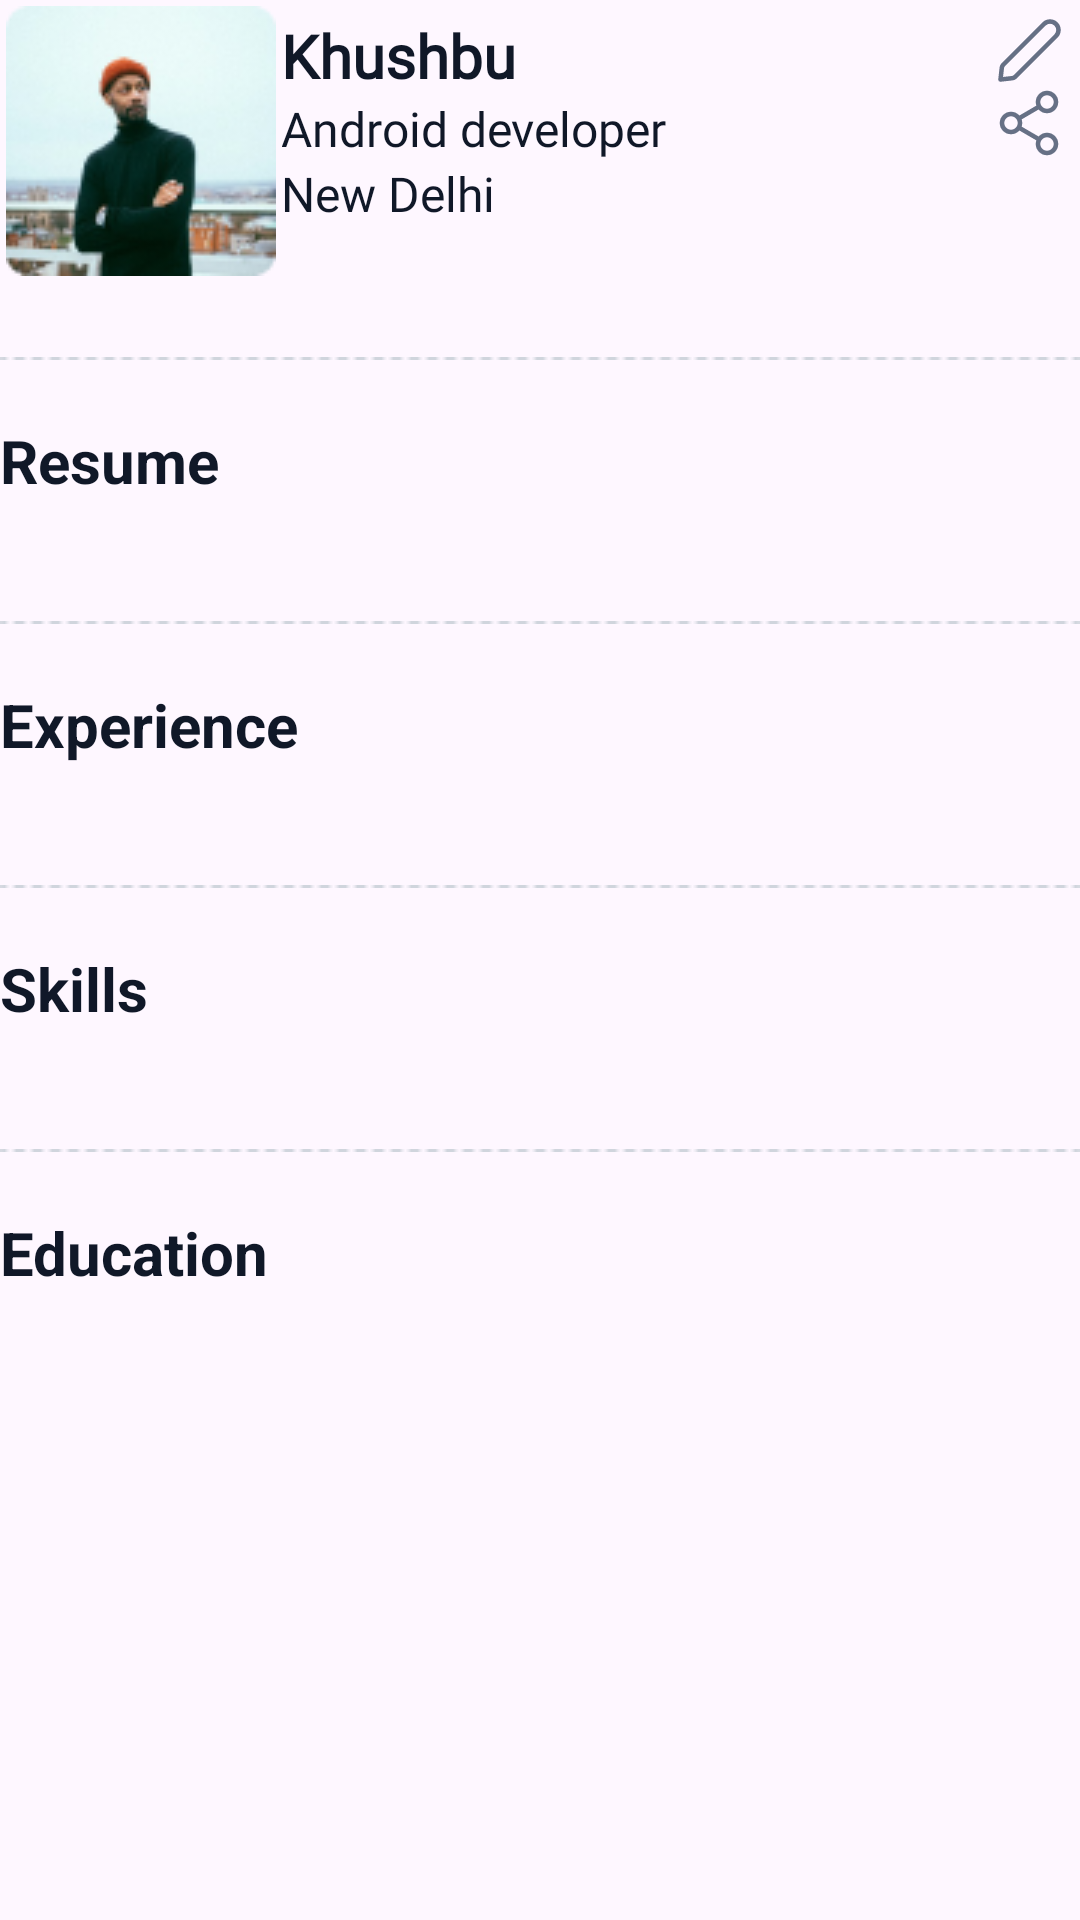

Where to tap for icons on this 1080px x 1920px app screen, as (x=x, y=y):
edit: (x=1029, y=50)
photo: (x=141, y=141)
share: (x=1029, y=123)
